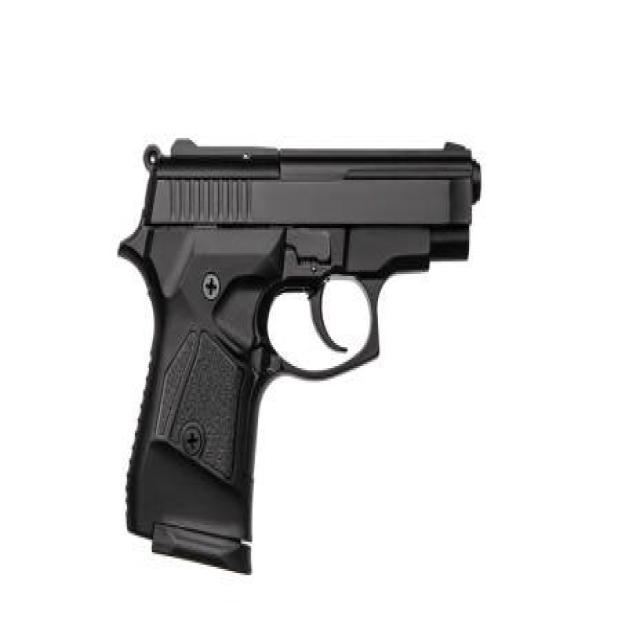pistol: (114, 135, 502, 581)
